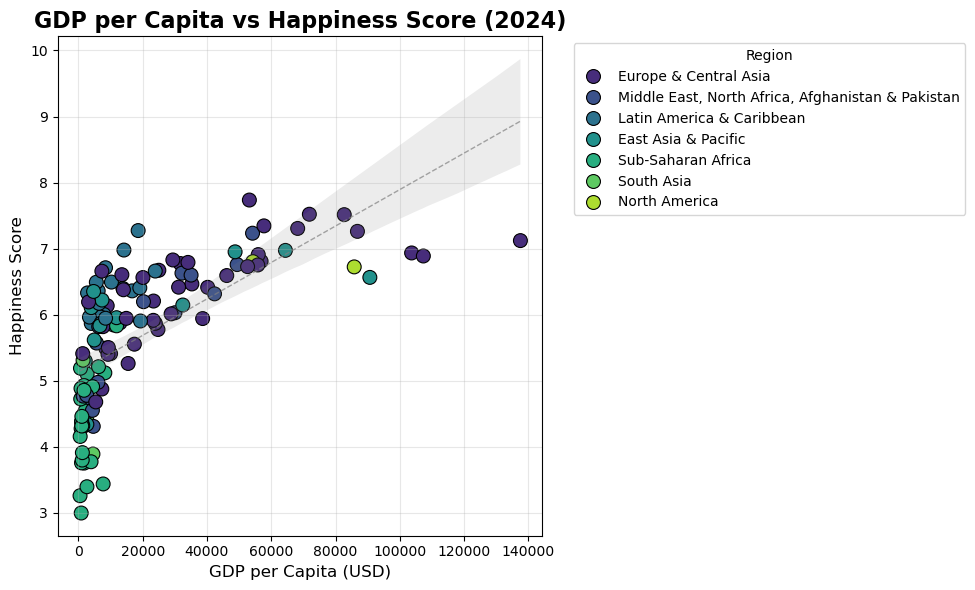

What the dashboard file says about the page in this screenshot:
{"tool":"powerbi","page":{"name":"GDP vs Happiness","canvas":[1280,720],"ordinal":0},"visuals":[{"type":"scatterChart","fields":{"X":["whr_wdi_left_merge_wide.GDP per Capita"],"Y":["whr_wdi_left_merge_wide.Happiness Score"],"Series":["whr_wdi_left_merge_wide.Region"]},"box":[9.6,0,1270.4,719.8],"z":0}]}

Visuals, with their boxes on the page's 1280x720 design canvas (x1, y1, x2, y2). These are canvas units, not pixel positions in the 975x590 screenshot, which may show the page scaled, cropped or inside an application window:
scatterChart - whr_wdi_left_merge_wide.GDP per Capita x whr_wdi_left_merge_wide.Happiness Score: locate(10, 0, 1280, 720)
